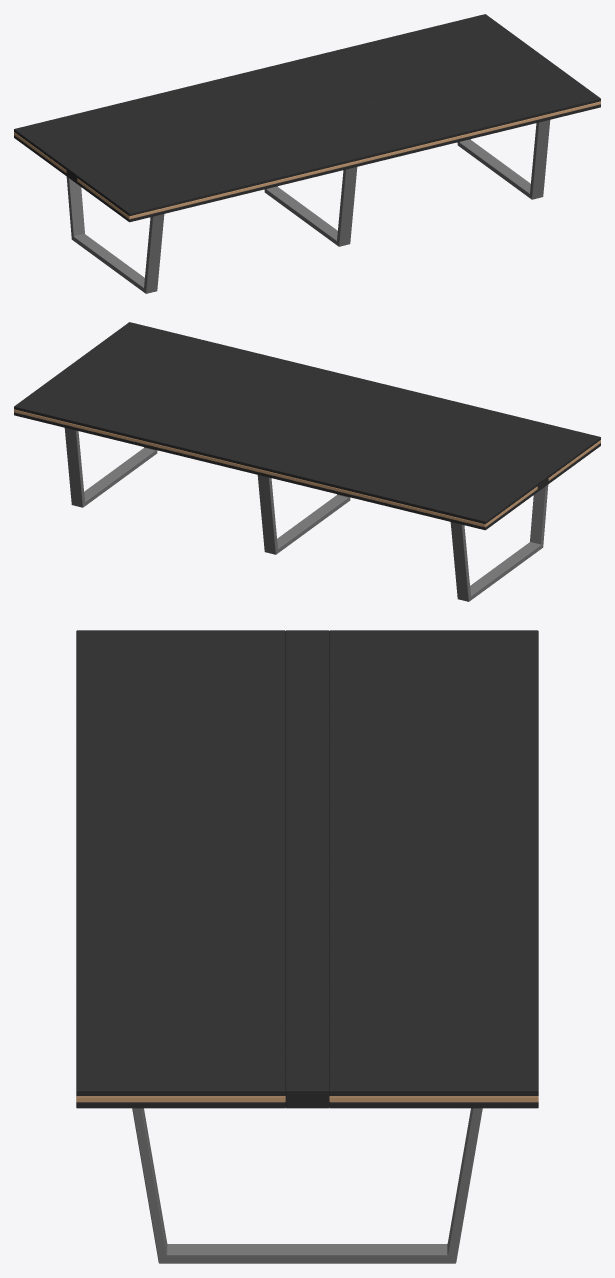
File: Conference_table_2.FBX
The picture shows the model from 3 angles, top to bottom: view 1: azimuth 30°, elevation 25°; view 2: azimuth 150°, elevation 25°; view 3: azimuth 270°, elevation 25°; orthographic projection. The views are drawn at different scales.
Parts seen in each view (by area): view 1: Conference_table_2; view 2: Conference_table_2; view 3: Conference_table_2.
Part boxes in pixels (x1,y1,x2,y2): Conference_table_2: [14, 14, 600, 293]; Conference_table_2: [14, 322, 600, 601]; Conference_table_2: [76, 630, 538, 1263].
Bounding box in the file's own units: 330 × 70 × 140.
